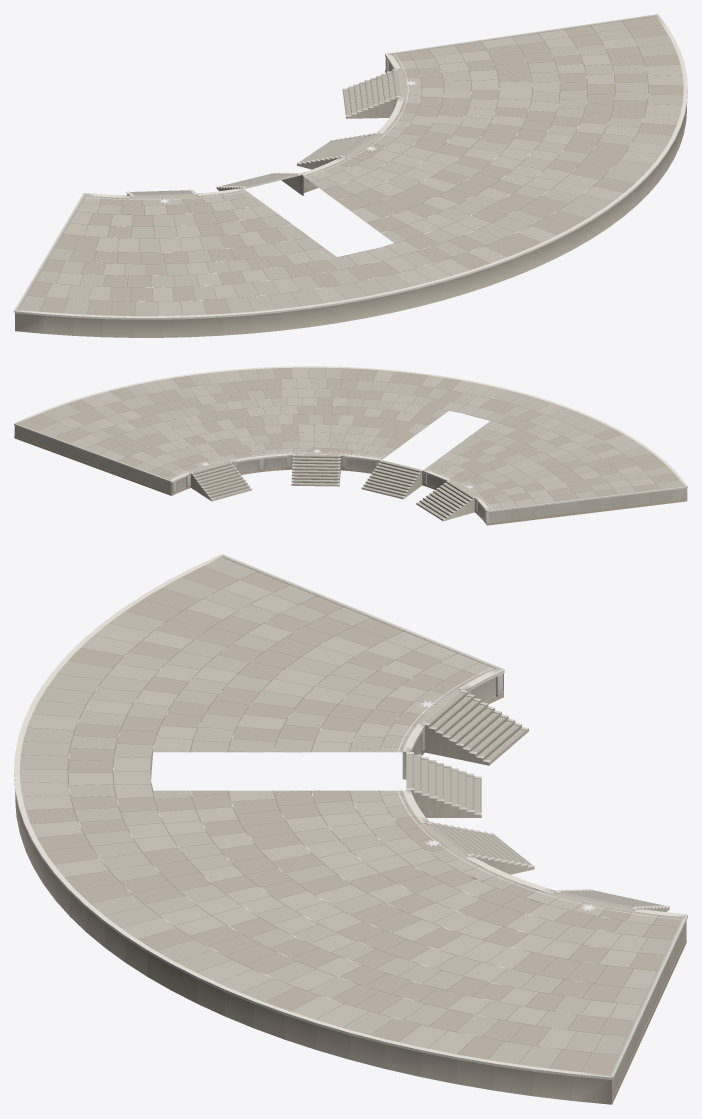
File: platform_hq.glb
3 views of the same model, one above another, from view 1: azimuth 30°, elevation 25°; view 2: azimuth 150°, elevation 25°; view 3: azimuth 270°, elevation 25° (orthographic). The views are drawn at different scales.
Parts seen in each view (by area): view 1: Platform_paving, Platform_stone; view 2: Platform_paving, Platform_stone, Platform_gold; view 3: Platform_paving, Platform_stone.
Part boxes in pixels (bbox=[...]): Platform_paving: bbox=[19, 16, 683, 316]; Platform_stone: bbox=[14, 14, 687, 337]; Platform_paving: bbox=[18, 367, 683, 518]; Platform_stone: bbox=[14, 366, 687, 525]; Platform_gold: bbox=[169, 449, 492, 509]; Platform_paving: bbox=[19, 557, 681, 1074]; Platform_stone: bbox=[14, 554, 687, 1104].
Size of the model in its own units: 82.29 by 2.04 by 44.79.
